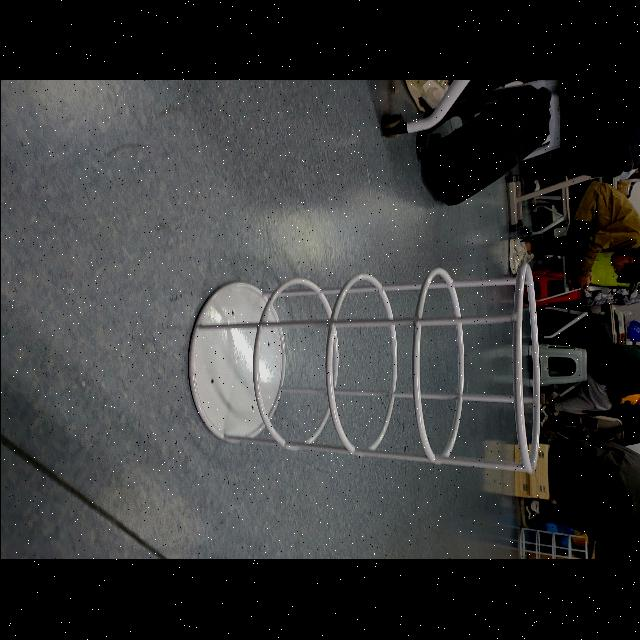S: (182, 253, 548, 477)
